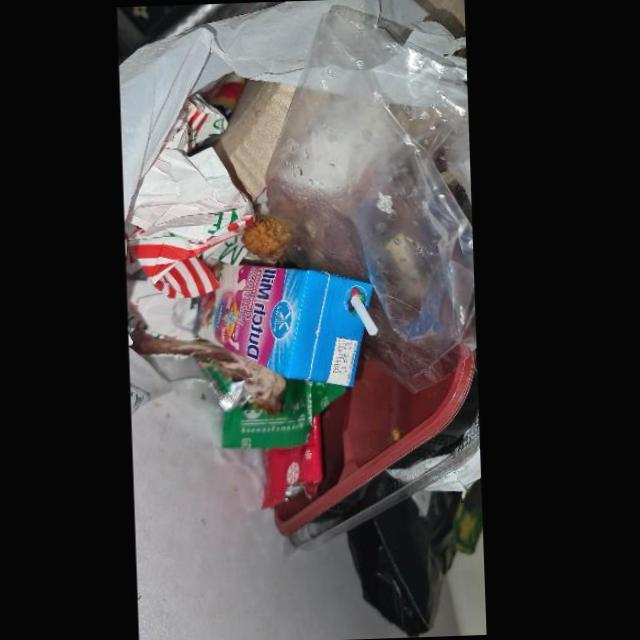giay: (126, 92, 255, 298)
goi_nhua_nho: (221, 378, 347, 507)
ong_hut_nhua: (351, 294, 378, 334)
thuc_an_thua: (129, 319, 287, 415), (244, 214, 292, 260)
tui_ni_long: (265, 2, 477, 390)
vo_hop_sua: (197, 262, 378, 386)
